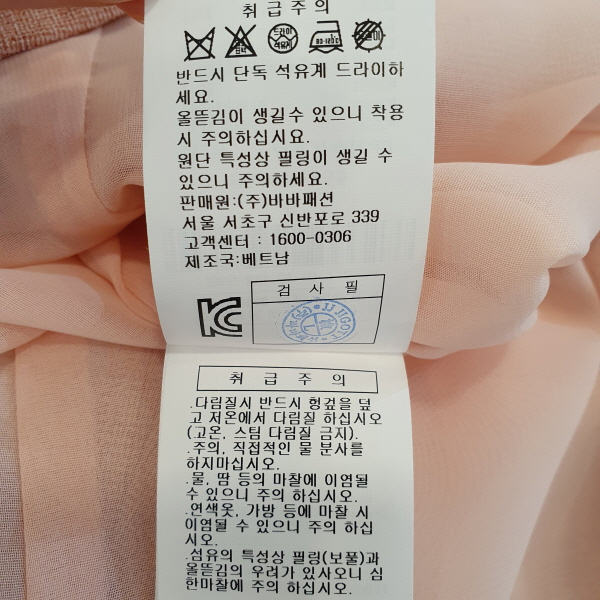KR_dry_clean_petroleum: (265, 20, 302, 55)
KR_hang_dry_in_shade: (351, 17, 388, 57)
KR_iron_low_temp_with_cloth: (307, 17, 346, 56)
KR_no_chlorine_bleach: (221, 22, 259, 60)
KR_no_wash: (181, 23, 217, 64)
